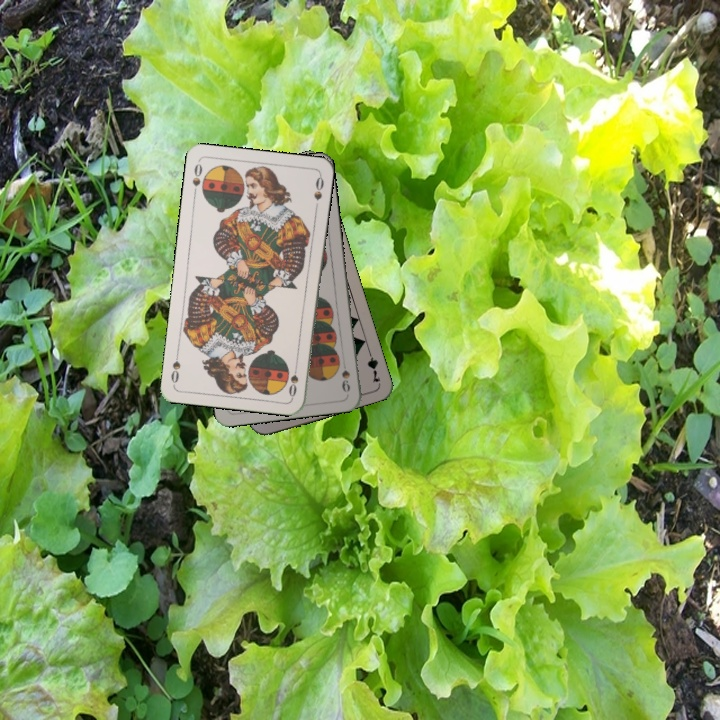G7: (363, 345, 383, 385)
S9: (338, 357, 352, 395)
SO: (284, 359, 301, 399), (188, 159, 205, 199)
